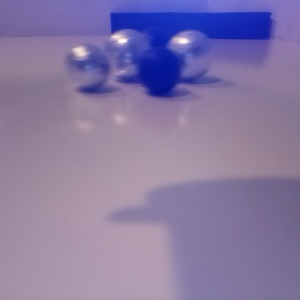alive_ball: (105, 28, 151, 80), (167, 29, 211, 81), (65, 44, 110, 88)
dead_ball: (137, 47, 181, 95), (138, 28, 178, 68)
